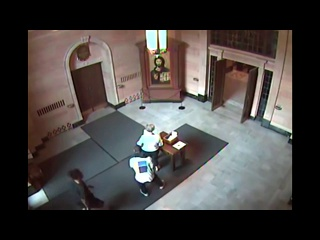Assault: (67, 169, 105, 209)
